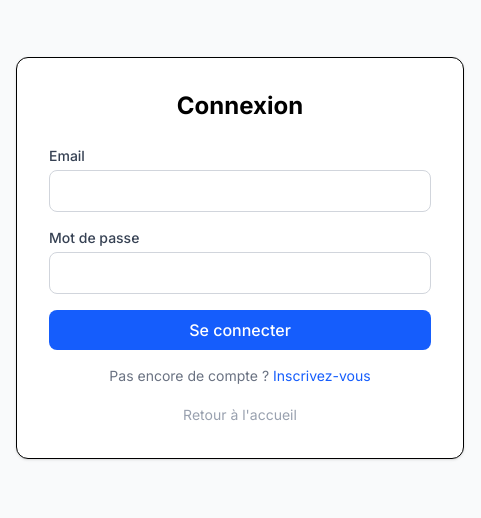
LoginPage › toggles to register form
The width and height of the screenshot is (481, 518).
Click the button "Inscrivez-vous".
click(322, 376)  # box top-left (273, 366), bottom-right (371, 386)
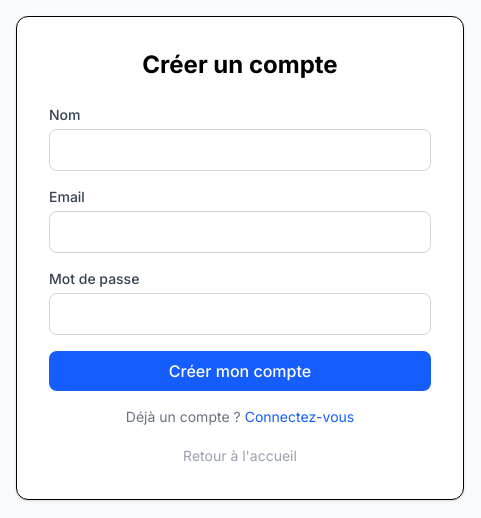
Result: the heading "Créer un compte" is shown at top-left (142, 50), bottom-right (338, 79)
Result: the button "Créer mon compte" is shown at top-left (49, 351), bottom-right (431, 391)
Result: the field labelled "Nom" is shown at top-left (49, 129), bottom-right (431, 171)
